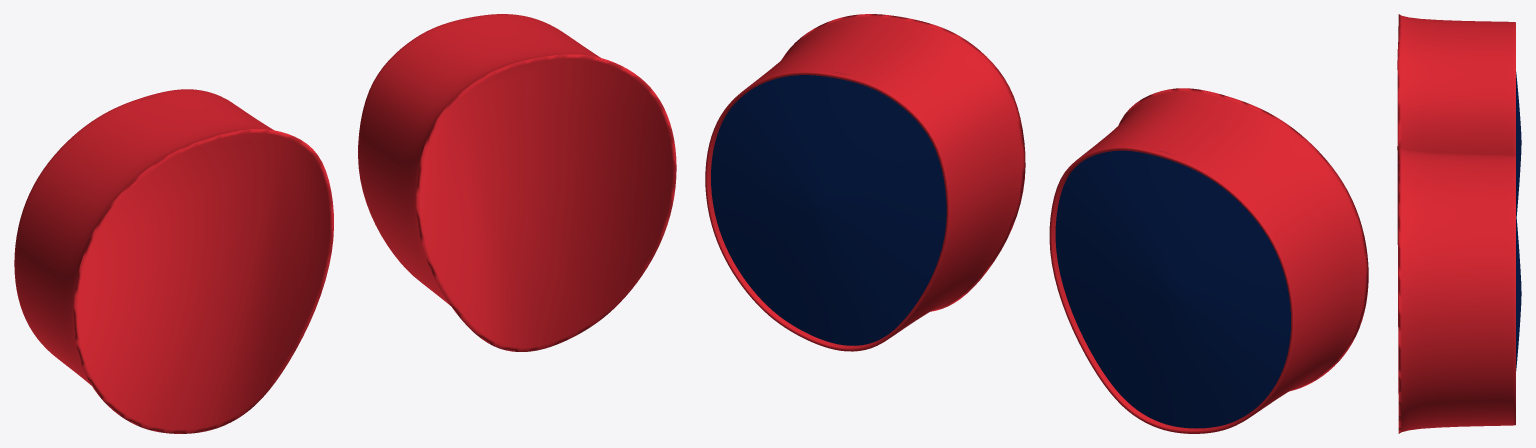
The model's file is Linsem.fbx.
3 renders of one model, left to right at view 1: azimuth 30°, elevation 25°; view 2: azimuth 150°, elevation 25°; view 3: azimuth 270°, elevation 25°, orthographic. The views are drawn at different scales.
Parts seen in each view (by area): view 1: lenses; view 2: lenses; view 3: lenses.
Part boxes in pixels (left/top/right/bottom): lenses: left=14, top=14, right=676, bottom=433; lenses: left=705, top=14, right=1368, bottom=433; lenses: left=1397, top=14, right=1521, bottom=433.
Size of the model in its own units: 93.58 by 43.51 by 19.15.
